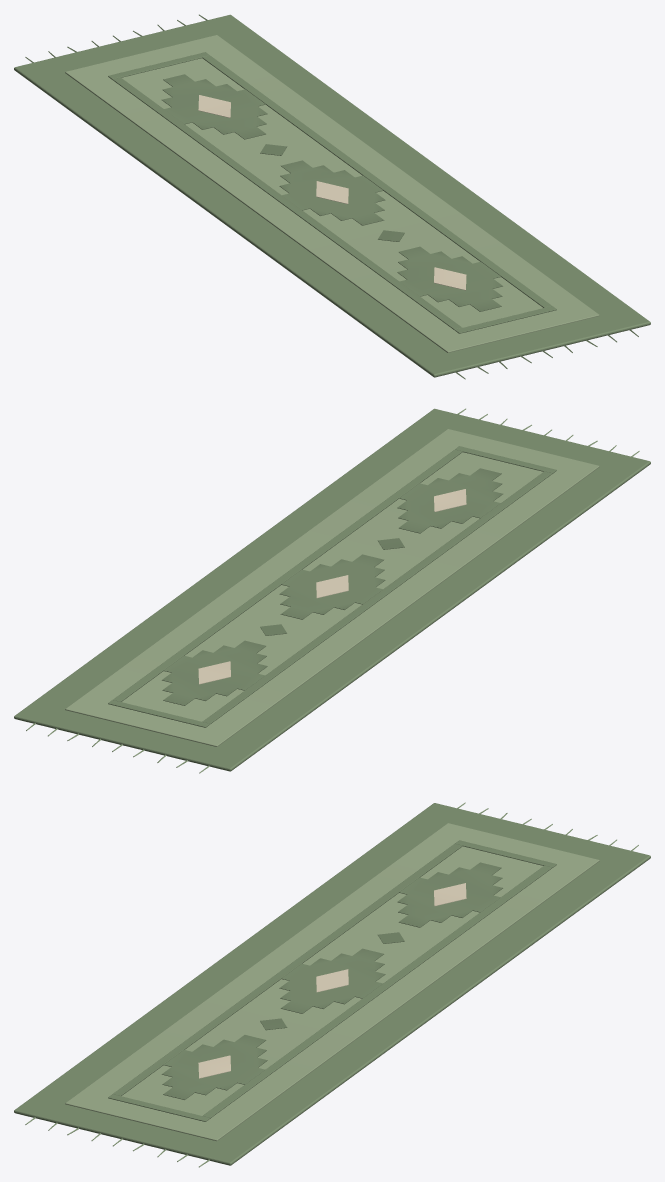
Rendered from rugRunner.glb.
3 views of the same model, one above another, from view 1: azimuth 30°, elevation 25°; view 2: azimuth 150°, elevation 25°; view 3: azimuth 330°, elevation 25° (orthographic).
Visible parts, largest first — view 1: rugRunner; view 2: rugRunner; view 3: rugRunner.
Boxes of the visible parts, x1,y1,x2,y2 form: rugRunner: [14, 14, 650, 379]; rugRunner: [14, 408, 650, 773]; rugRunner: [14, 802, 650, 1167].
Size of the model in its own units: 0.8 by 0.019 by 2.8.
